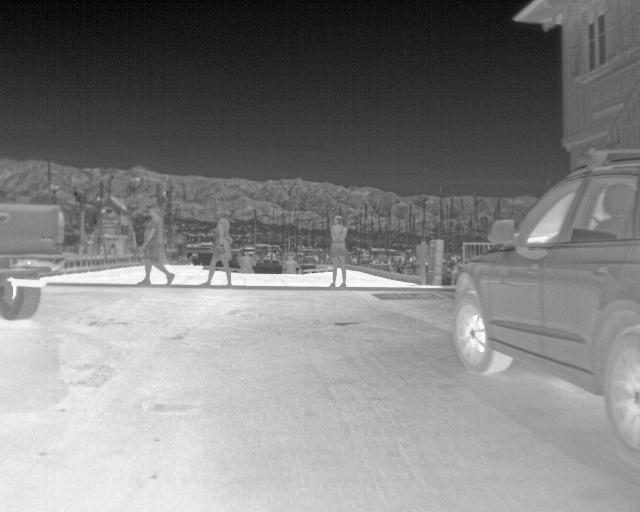bicycle: (449, 148, 638, 459), (0, 197, 70, 323)
empty: (137, 206, 176, 284), (198, 213, 235, 287), (325, 211, 351, 288), (280, 254, 303, 275), (235, 253, 256, 275)
